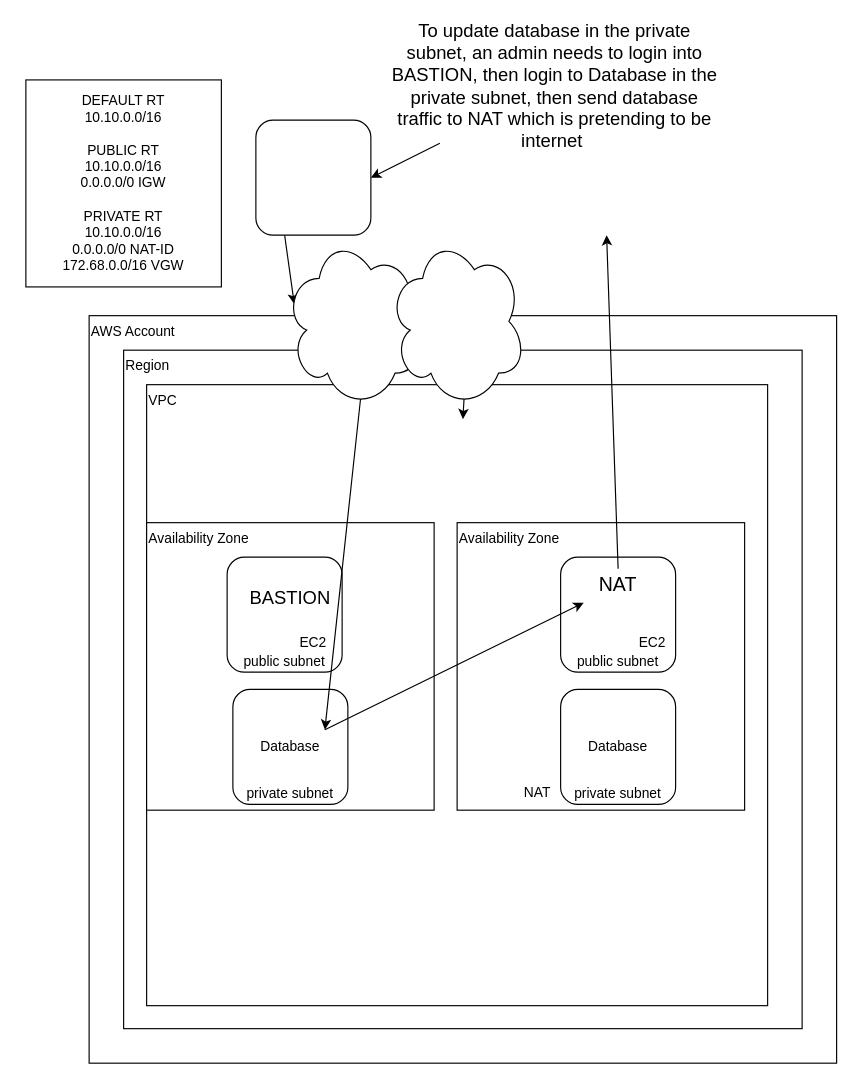
Some shapes in this 857 by 1083 pixel diagram are drawn without their labels. The shapes that lost their labels are listed below. From the top down, each one's centre as x and y in pixels, then its label:
At [313,177]: "DATE CENTER".
At [353,321]: "VGW".
At [456,321]: "Internet Gateway".
